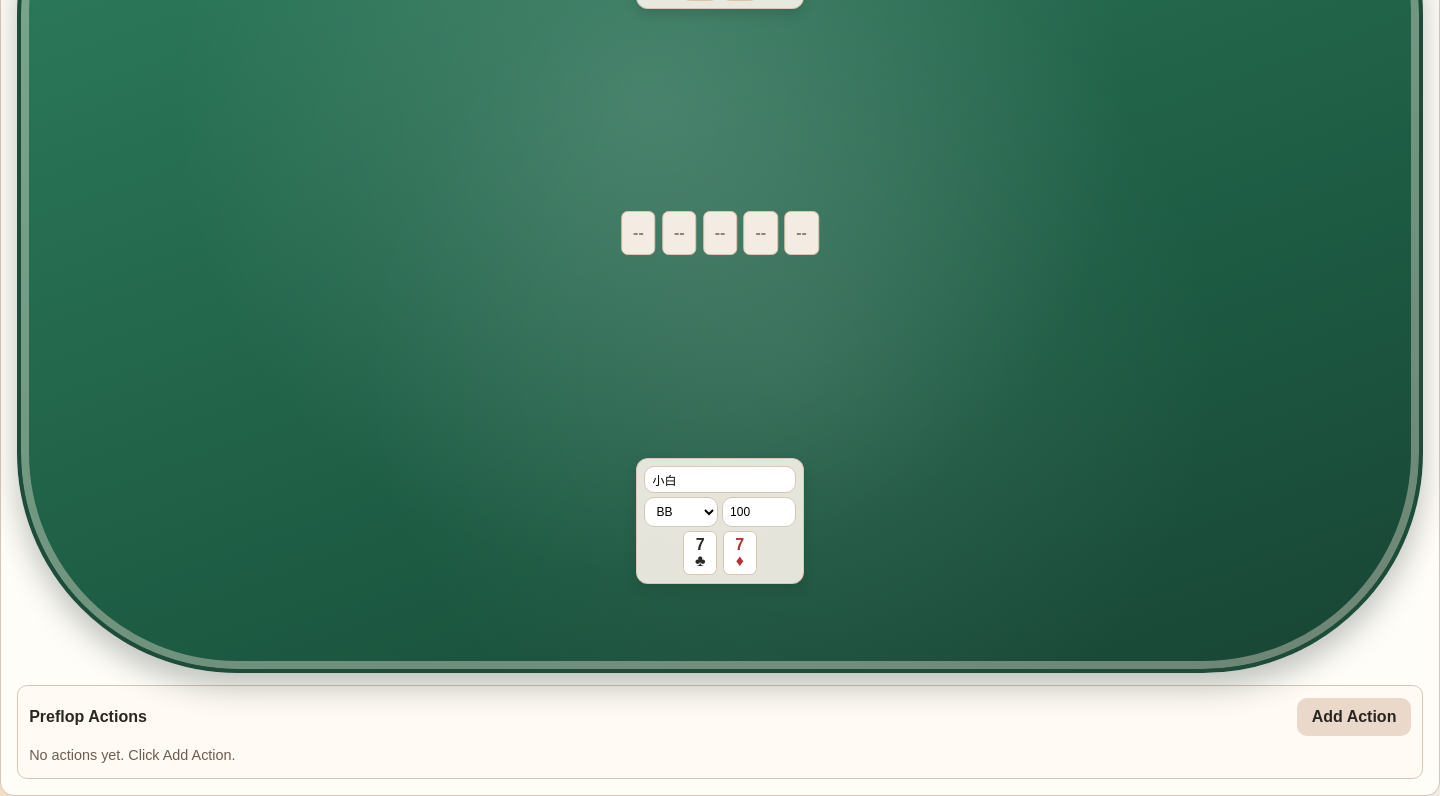
Test case: shows auto all-in amount and hides amount input
(page scrolled)
Click the button "Add Action" at (1354,717), box left=1297, top=698, right=1411, bottom=736
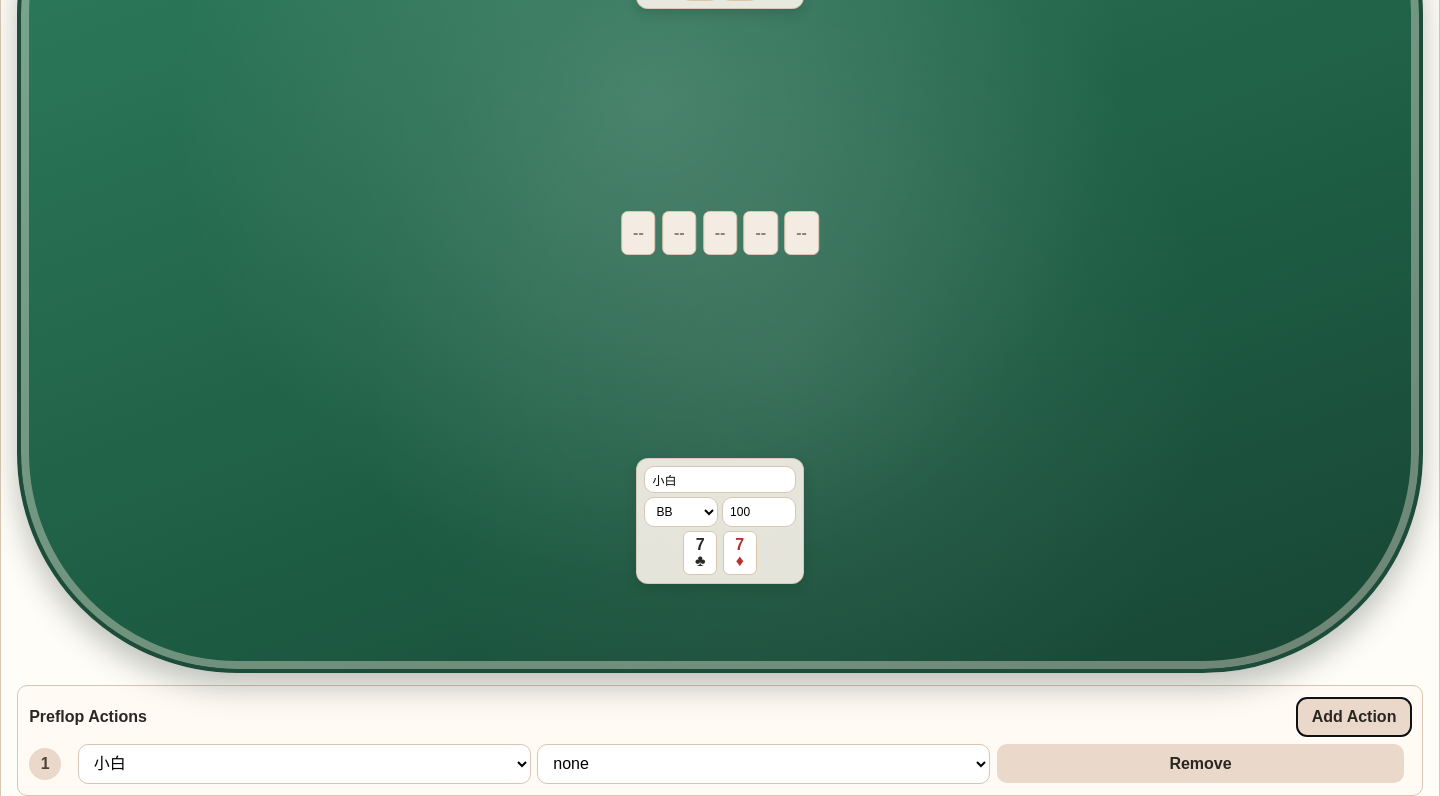
Select "all_in" in the dropdown named "Action preflop 1" at (764,764), box left=537, top=744, right=990, bottom=784
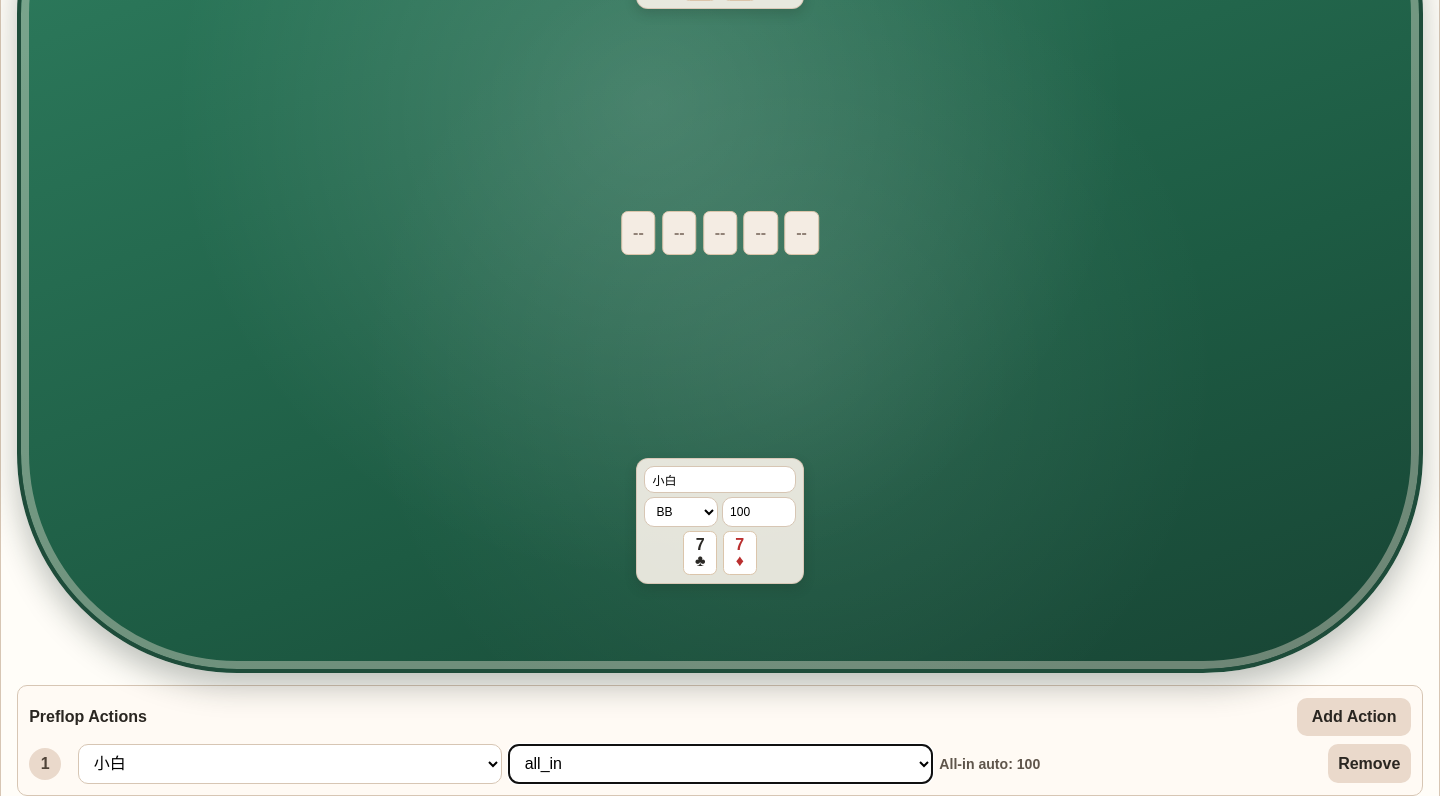
Expected: the text "All-in auto: 100" is shown, left=939, top=756, right=1040, bottom=772
